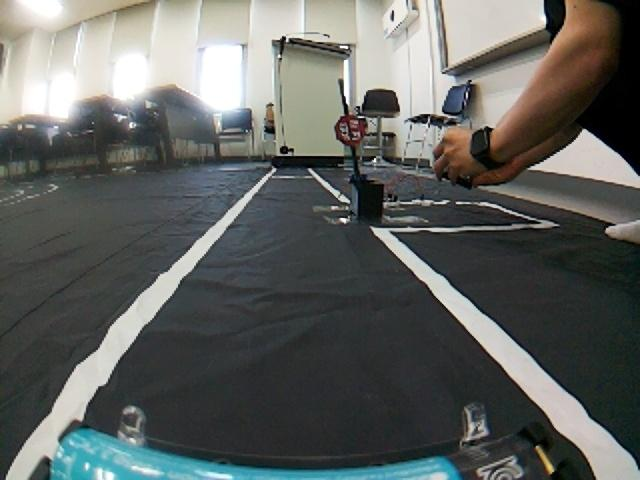sign_stop: (335, 113, 369, 148)
straight: (10, 227, 640, 480)
